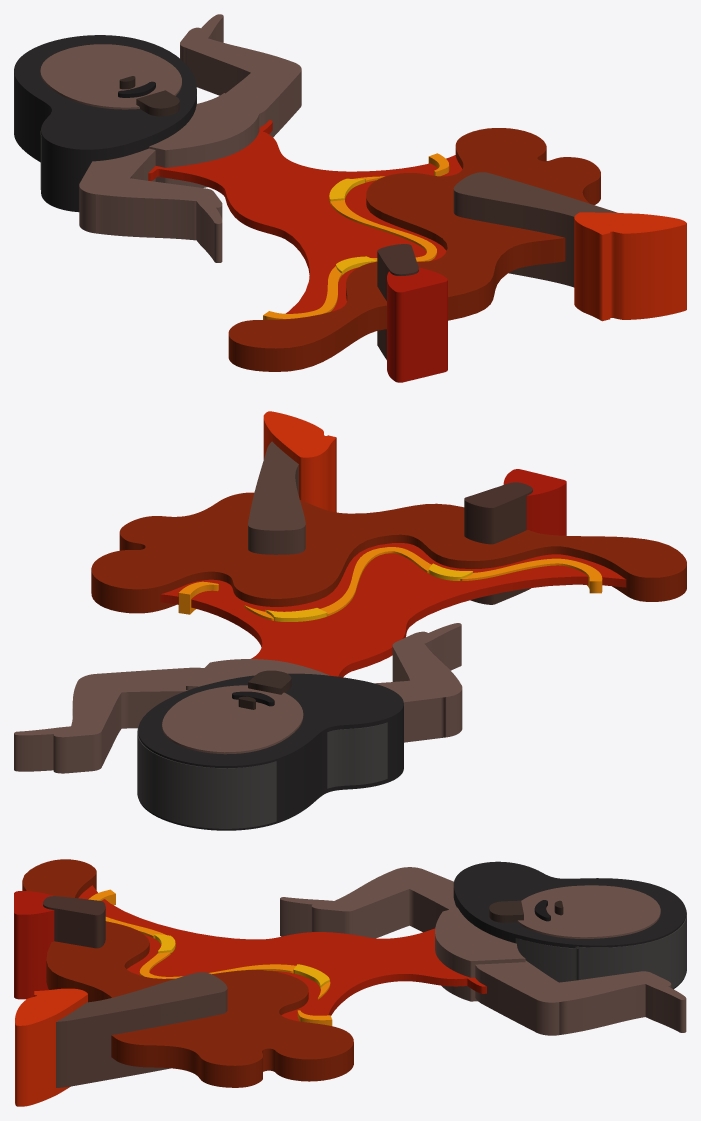
The model's file is emoji_u1f483_1f3ff.glb.
3 renders of one model, top to bottom at view 1: azimuth 30°, elevation 25°; view 2: azimuth 150°, elevation 25°; view 3: azimuth 270°, elevation 25°, orthographic. The views are drawn at different scales.
Parts seen in each view (by area): view 1: emoji_u1f483_1f3ff; view 2: emoji_u1f483_1f3ff; view 3: emoji_u1f483_1f3ff.
Part boxes in pixels (bbox=[...]): emoji_u1f483_1f3ff: bbox=[14, 14, 686, 382]; emoji_u1f483_1f3ff: bbox=[14, 411, 686, 830]; emoji_u1f483_1f3ff: bbox=[14, 859, 686, 1106].
Bounding box in the file's own units: 0.0241 × 0.0048 × 0.0332.
